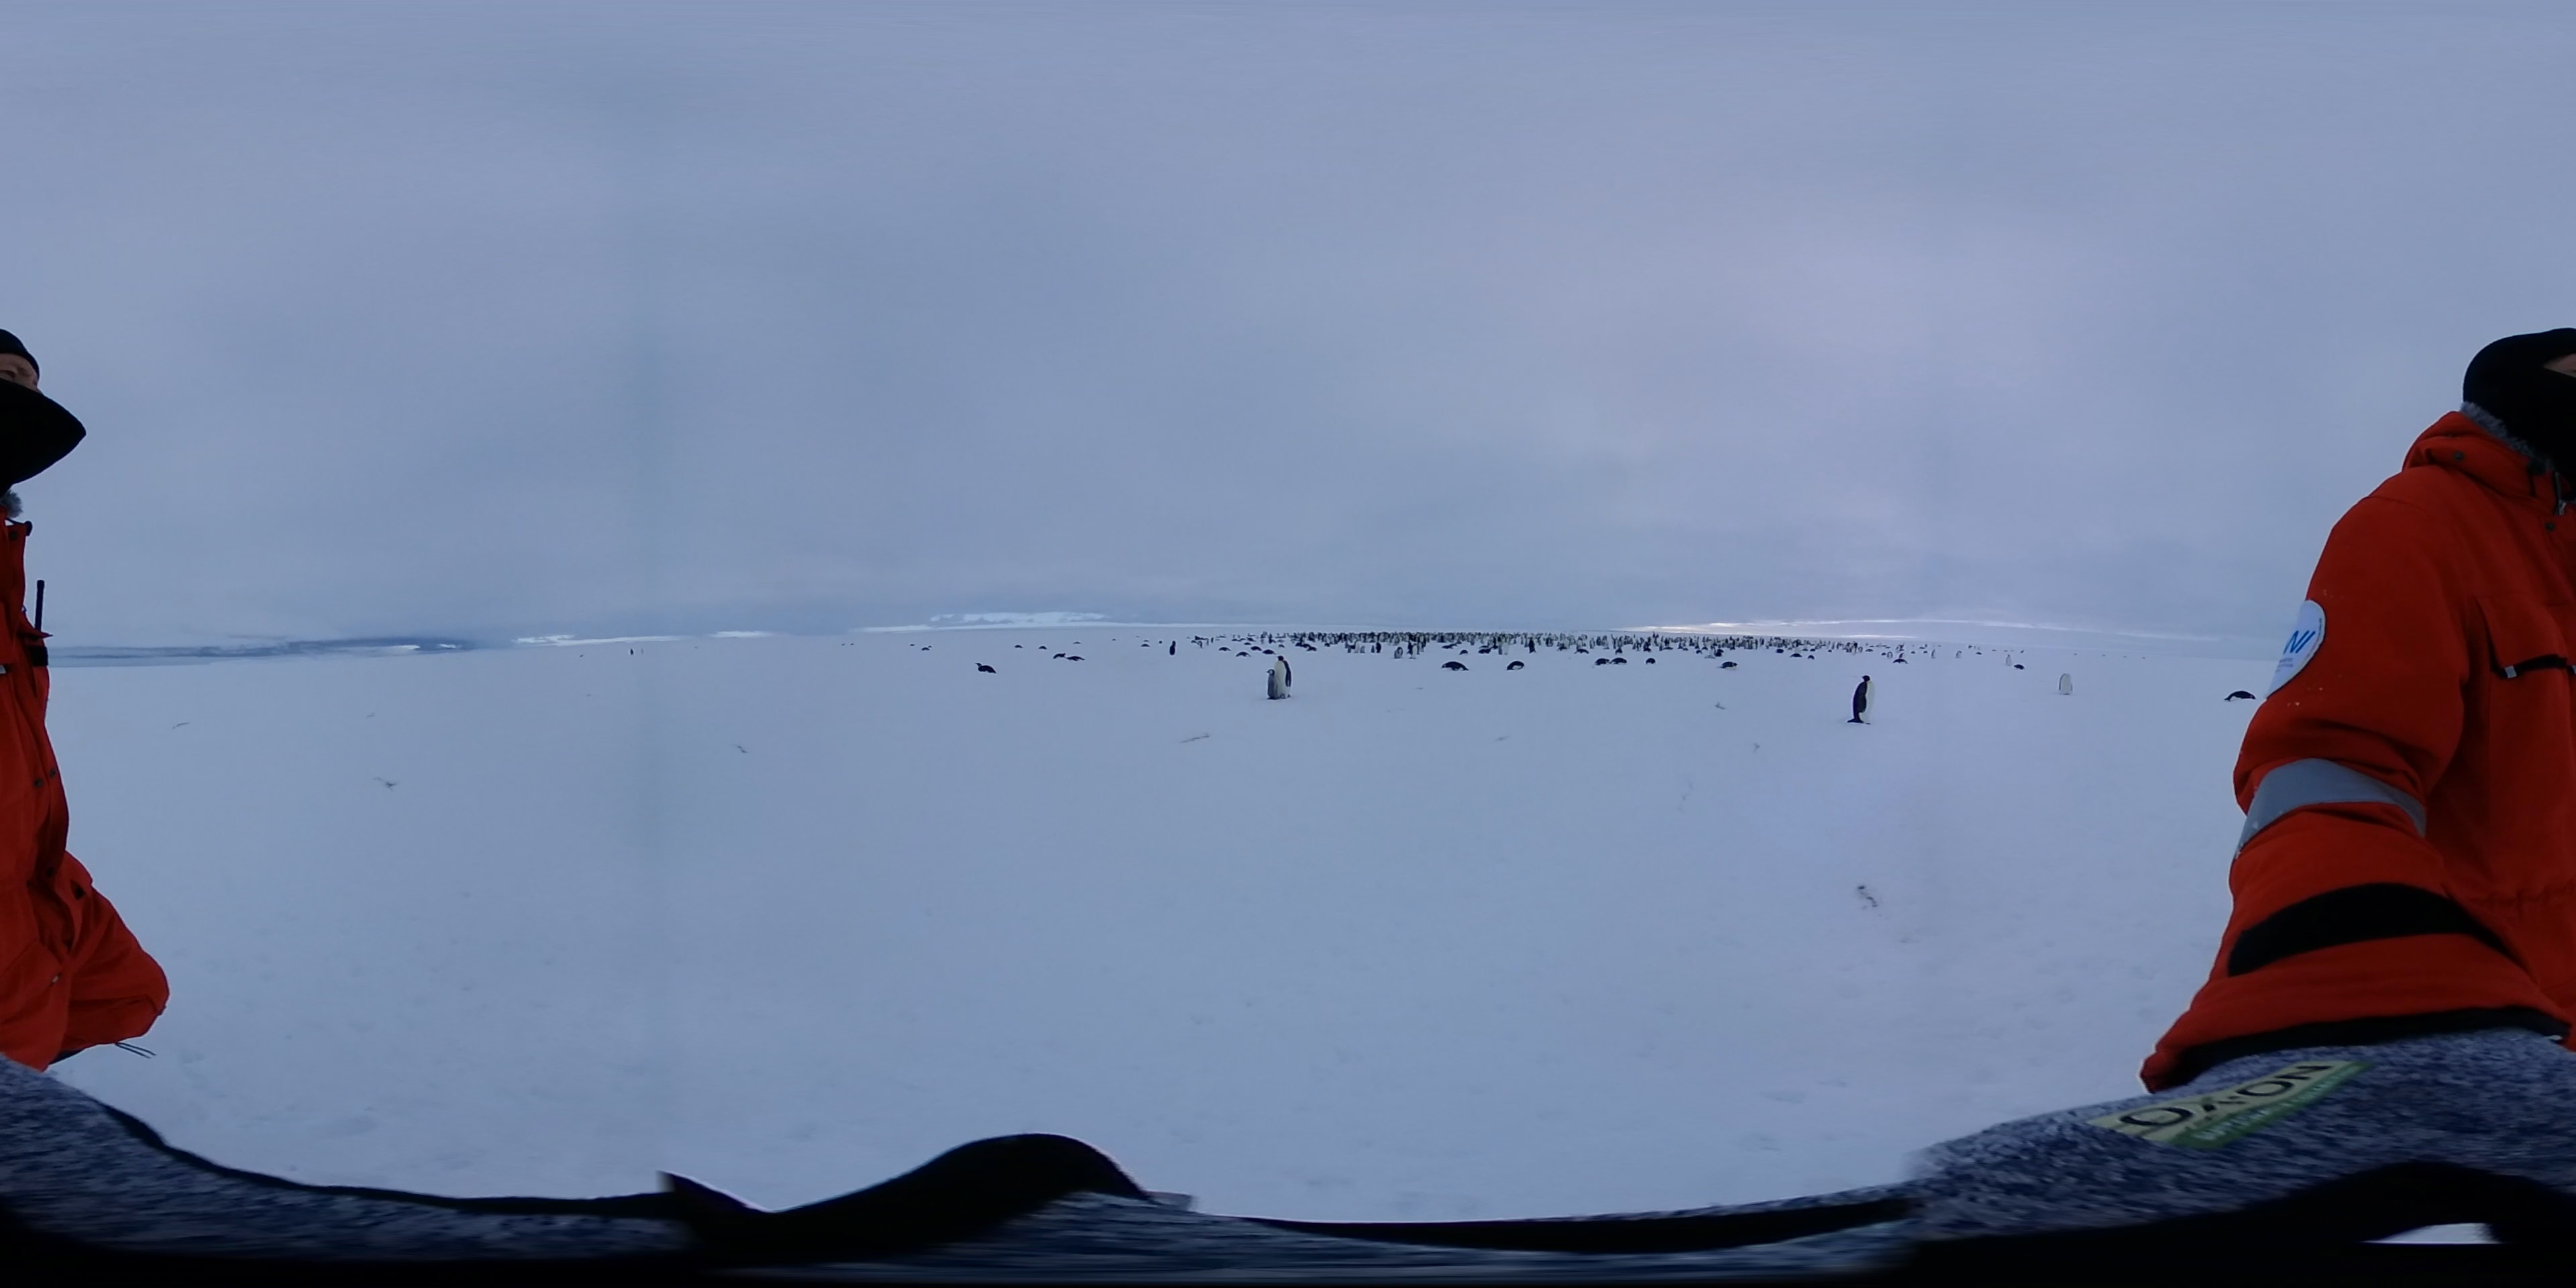adult_standing_penguin: (1843, 670, 1878, 724), (1273, 654, 1293, 703), (2055, 672, 2075, 698)
adult_toboggan_penguin: (2219, 688, 2257, 701), (973, 659, 997, 675), (1715, 660, 1741, 674), (1439, 660, 1467, 672), (1594, 655, 1613, 669), (1503, 660, 1528, 670), (1607, 659, 1628, 665)
juvenile_penguin: (1263, 669, 1281, 701)
researcher: (2152, 301, 2576, 1140), (0, 302, 153, 1132)
